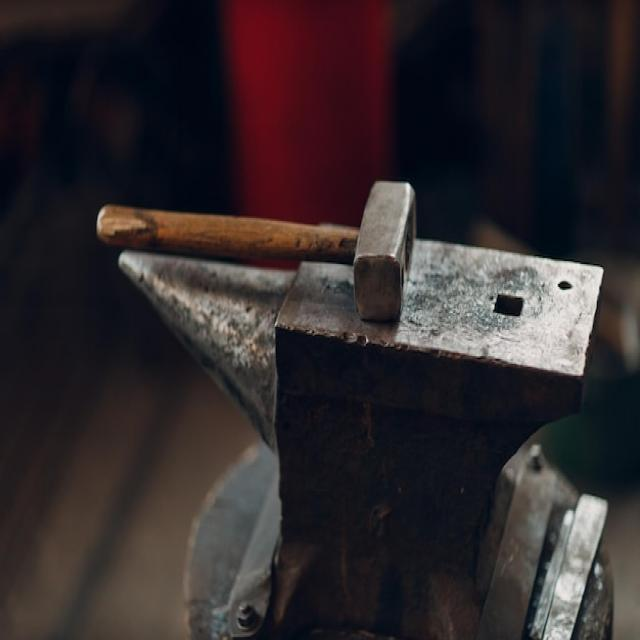hammer: (90, 170, 429, 328)
